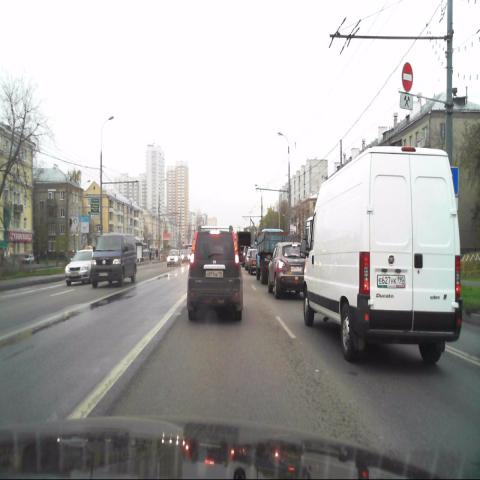8_5_2: (398, 94, 414, 110)
